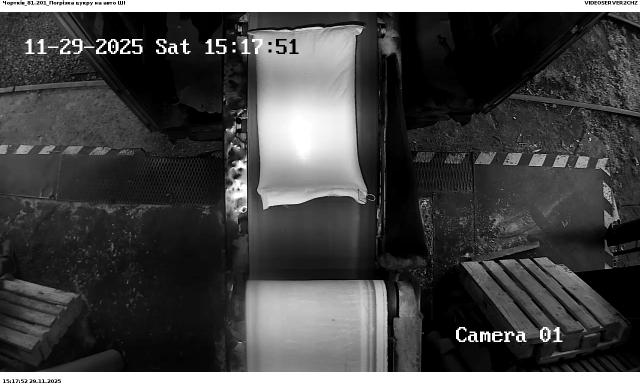bag: (248, 25, 368, 210)
